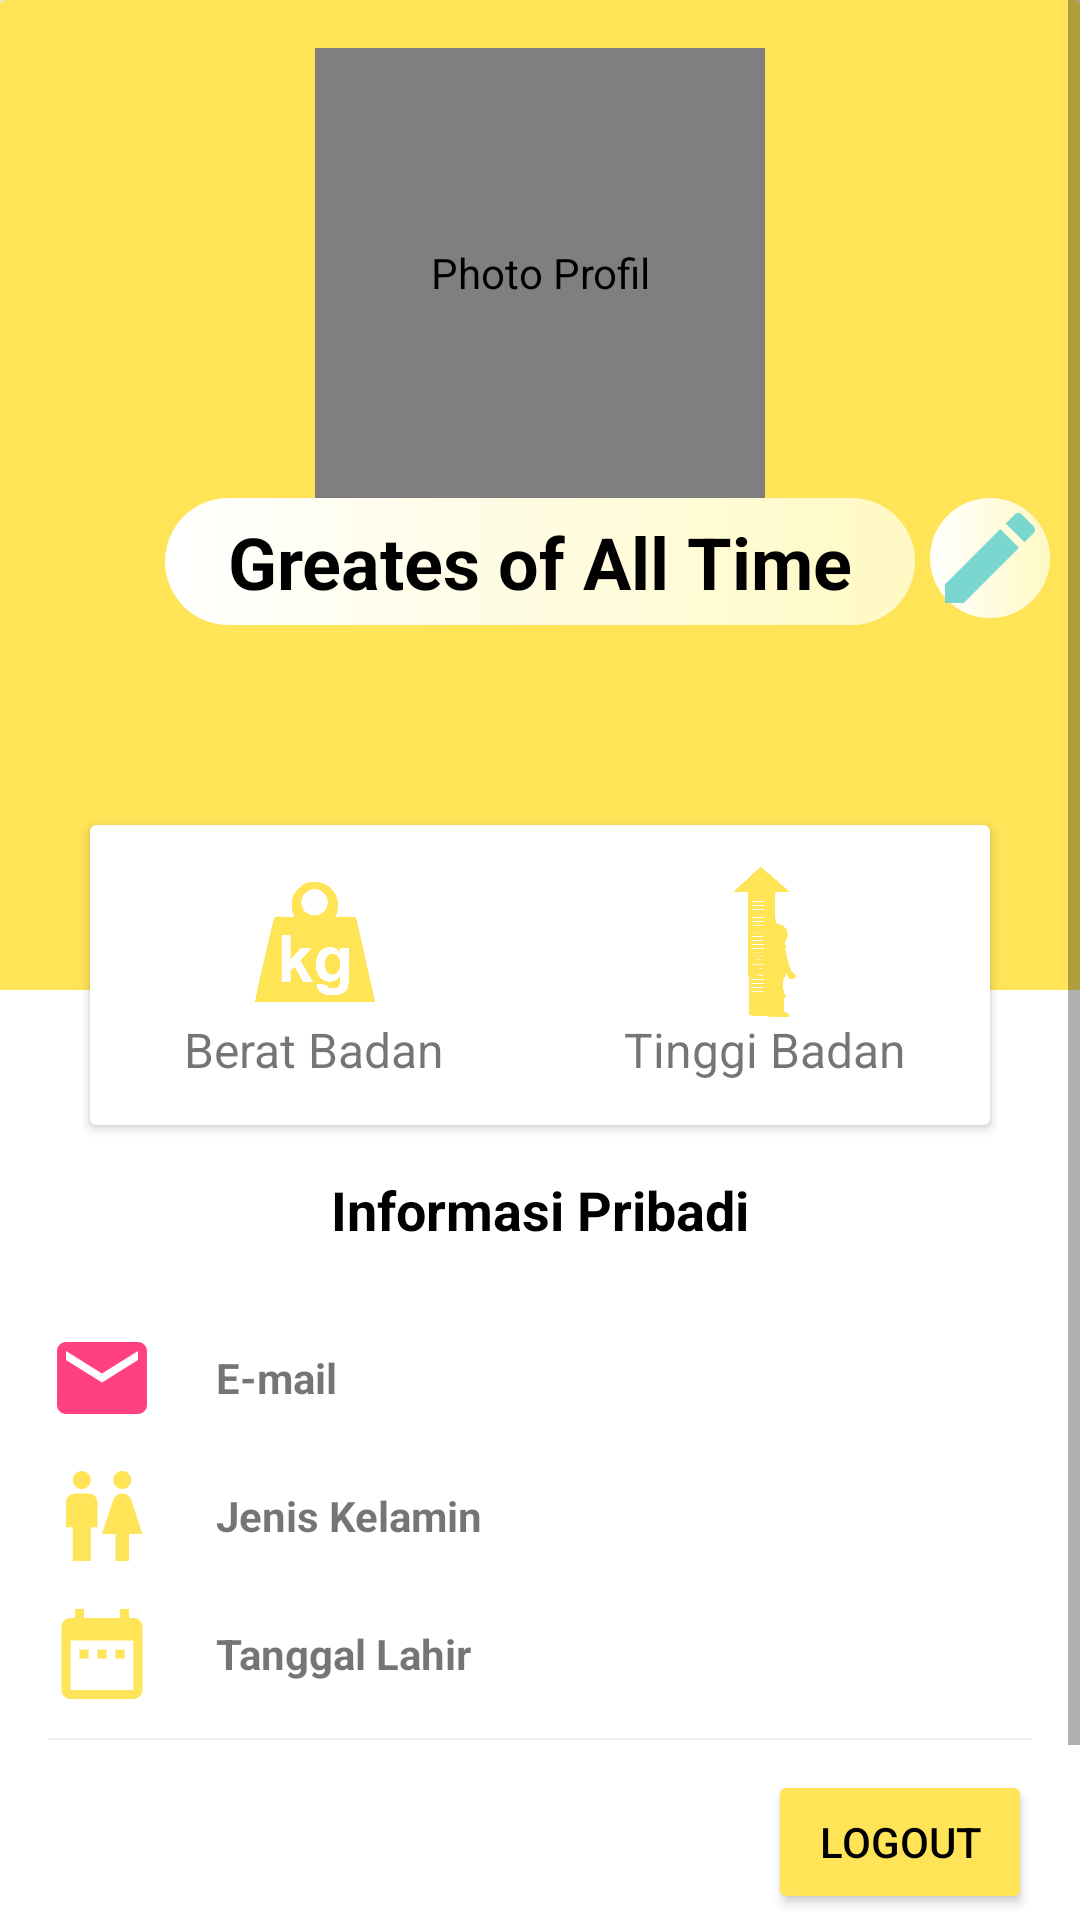

Where to tap for icons on this 1080*1920 app screen, as (x=x, y=y):
date range: (x=102, y=1654)
edit: (x=990, y=558)
